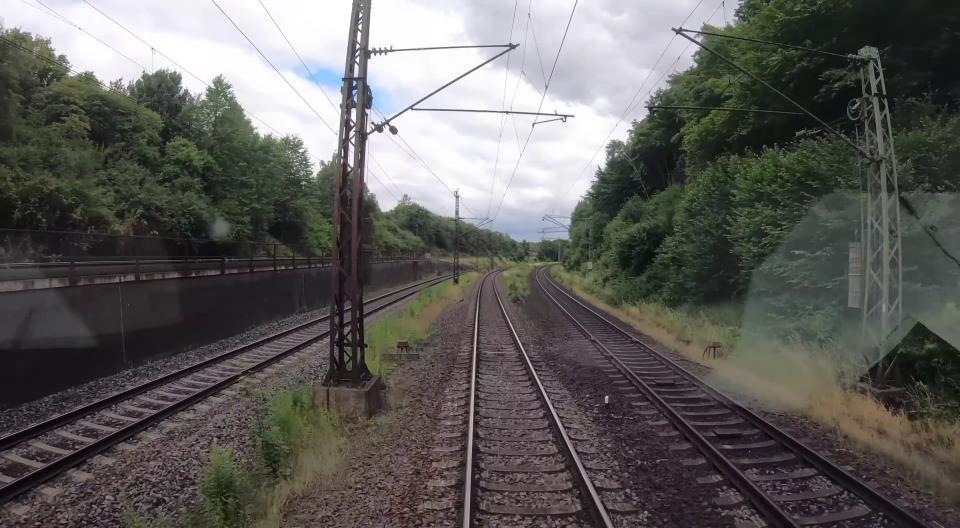Plant: (156, 386, 344, 527), (366, 273, 475, 372), (503, 263, 538, 302)
